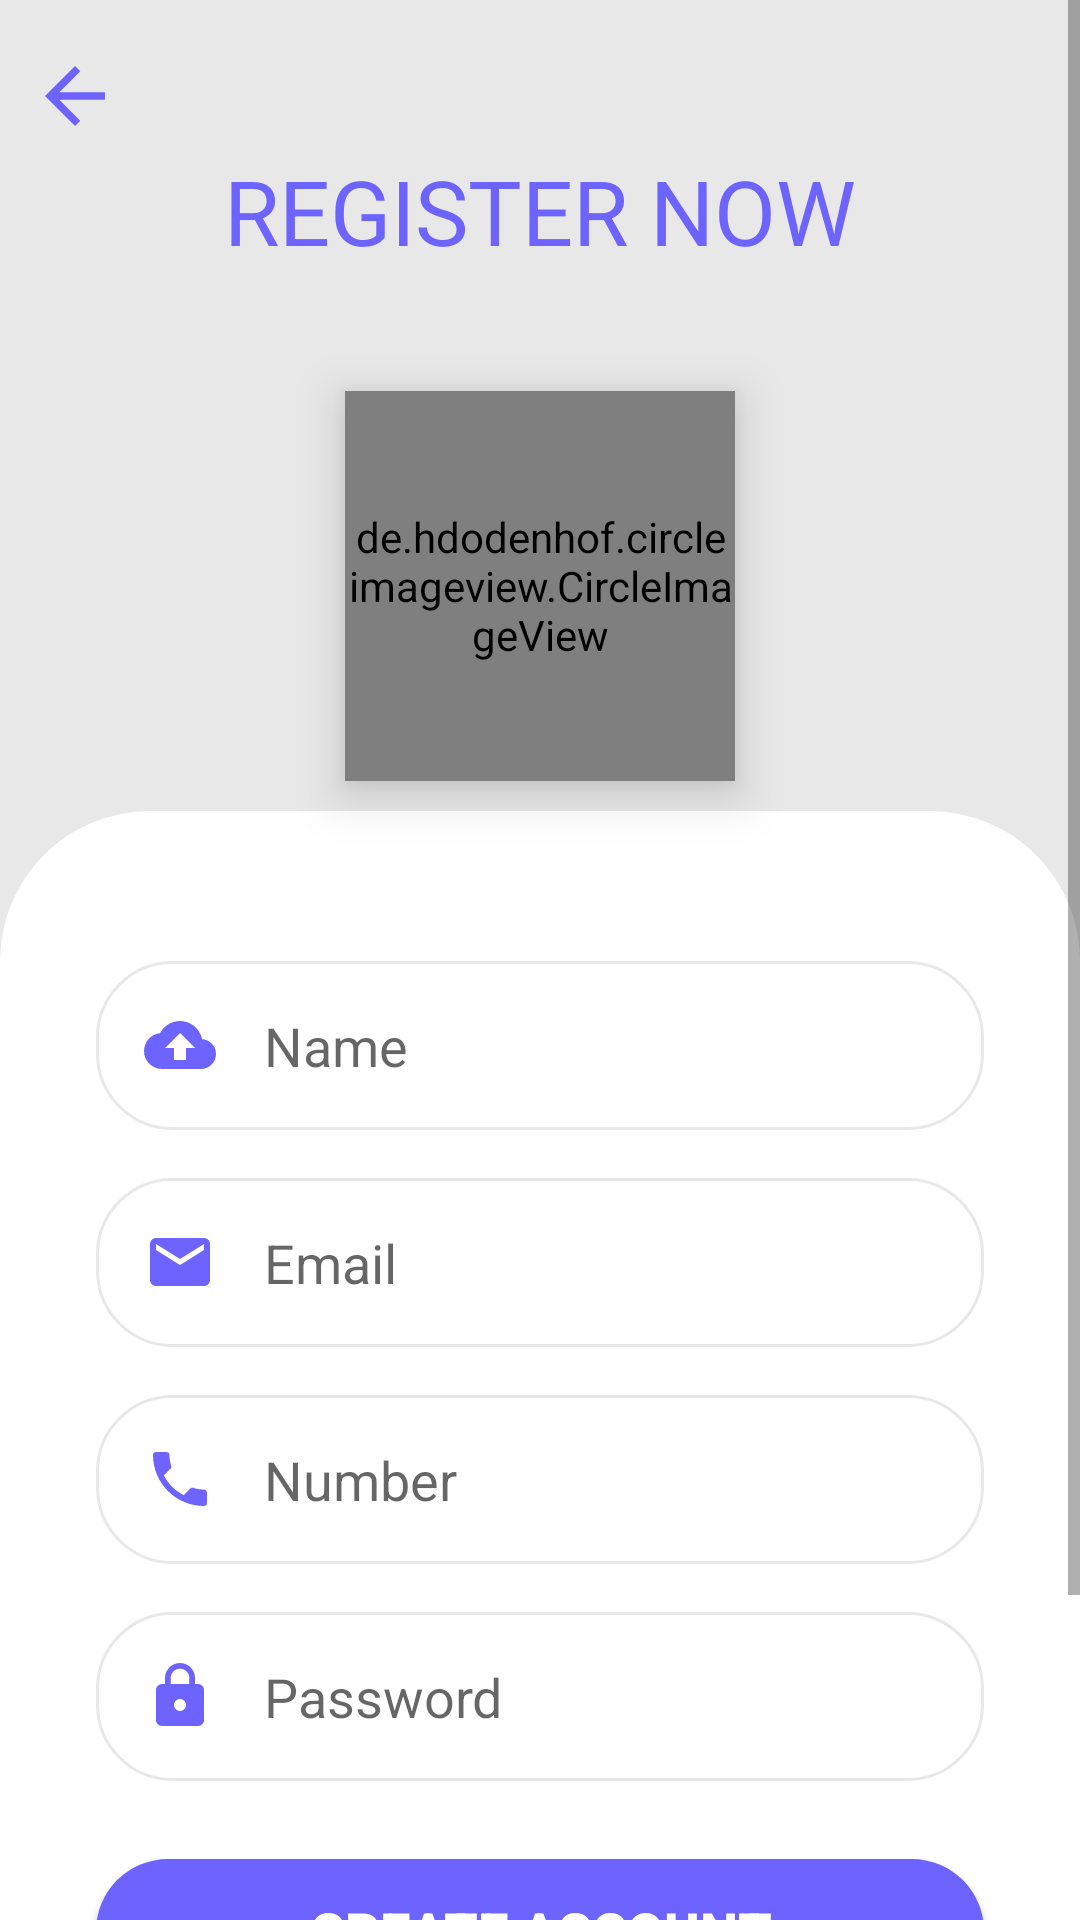

Icon bounding boxes for this 1080x1920 phone screenshot, format (x1, y1, x2, y2):
arrow back: (45, 66, 105, 126)
